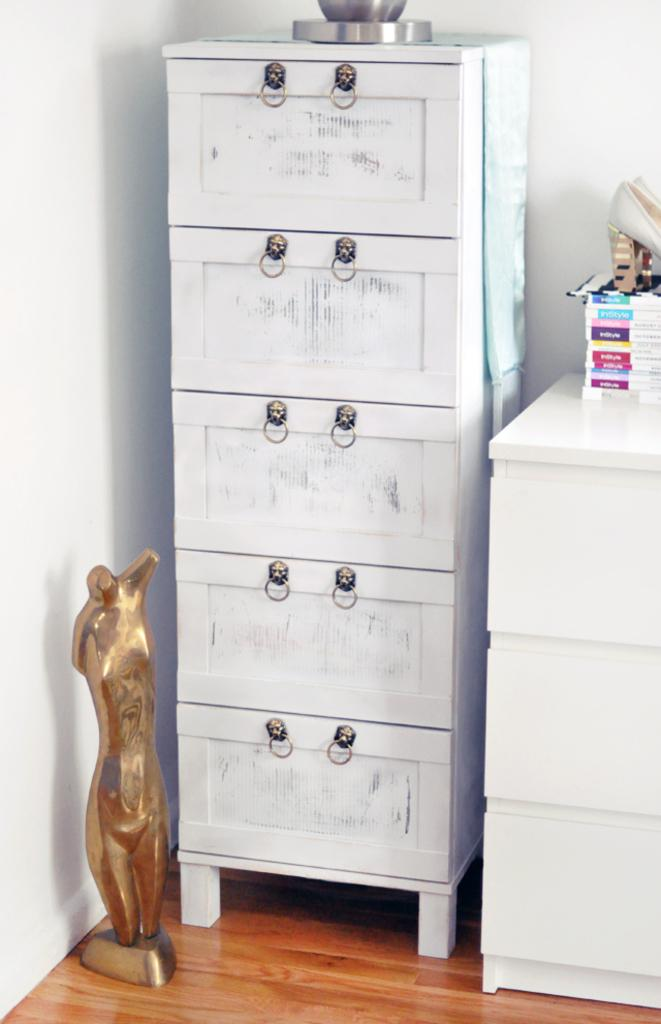cabinet_door: (167, 70, 457, 242), (174, 394, 452, 560), (172, 234, 456, 390), (184, 707, 452, 866), (178, 562, 448, 714)
handle: (486, 622, 661, 686), (490, 781, 658, 836), (498, 456, 653, 504), (321, 56, 362, 118), (326, 224, 358, 288), (260, 554, 294, 614), (256, 51, 289, 111), (324, 716, 359, 770), (256, 230, 288, 288), (326, 562, 362, 613), (260, 391, 292, 448), (264, 714, 296, 769), (328, 401, 360, 454)
